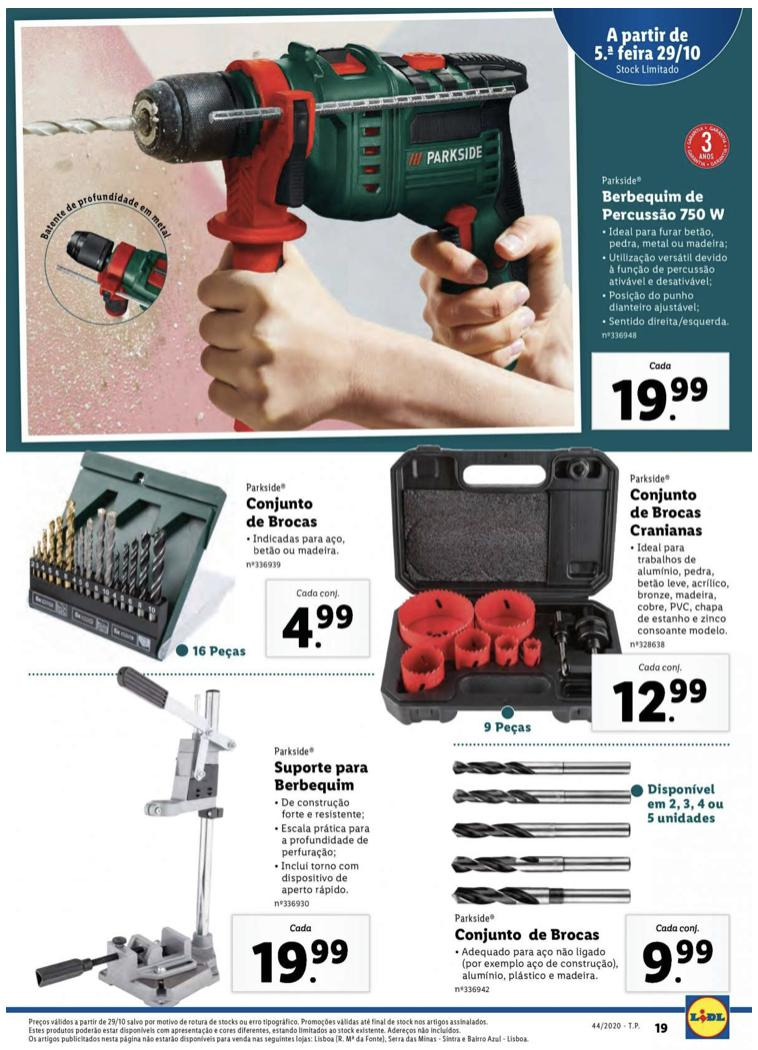name: (594, 186, 732, 226), (624, 483, 711, 542), (264, 757, 373, 798), (237, 491, 325, 531), (450, 925, 603, 947)
price: (608, 374, 721, 429), (610, 670, 710, 730), (246, 934, 351, 987), (279, 599, 356, 657), (637, 937, 717, 990)
product: (28, 37, 750, 453), (16, 687, 376, 995), (382, 444, 745, 739), (427, 747, 746, 1003), (17, 453, 380, 669)
